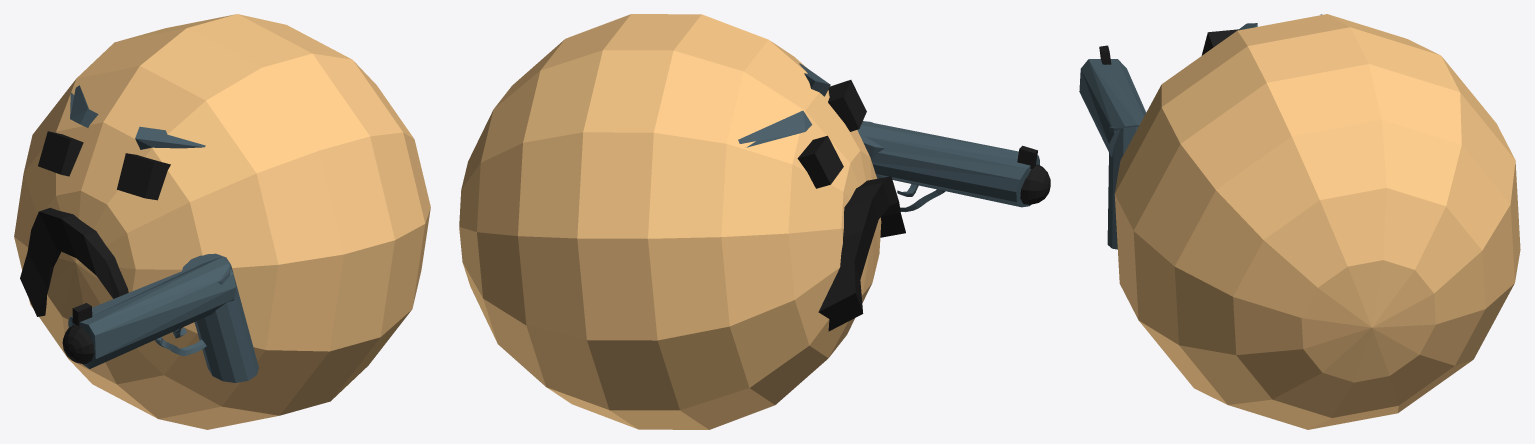
File: Enemy_Rook.fbx
3 renders of one model, left to right at view 1: azimuth 30°, elevation 25°; view 2: azimuth 150°, elevation 25°; view 3: azimuth 270°, elevation 25°, orthographic.
Parts seen in each view (by area): view 1: group_1722886123; view 2: group_1722886123; view 3: group_1722886123.
Boxes of the visible parts, x1,y1,x2,y2 form: group_1722886123: (14, 14, 430, 429); group_1722886123: (459, 14, 1050, 429); group_1722886123: (1079, 14, 1520, 429).
Bounding box in the file's own units: 58.19 × 46.47 × 50.13.
